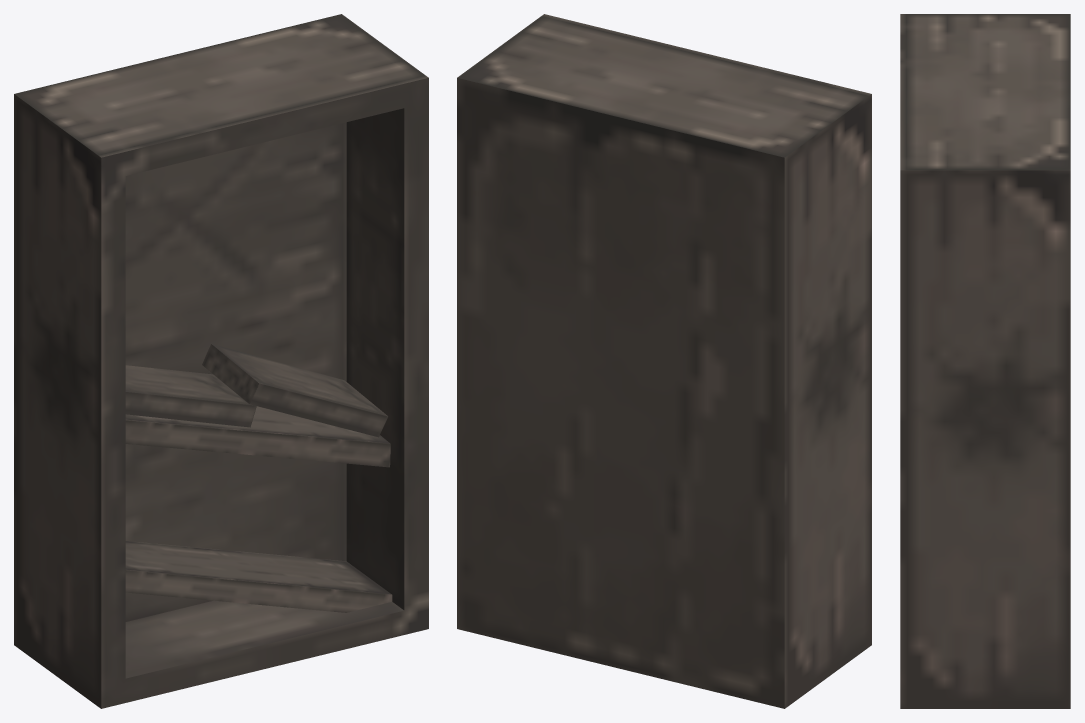
File: brokenBooKSHLF1.fbx
The picture shows the model from 3 angles, left to right: view 1: azimuth 30°, elevation 25°; view 2: azimuth 150°, elevation 25°; view 3: azimuth 270°, elevation 25°; orthographic projection. The views are drawn at different scales.
Parts seen in each view (by area): view 1: BrokenBookSHLF1; view 2: BrokenBookSHLF1; view 3: BrokenBookSHLF1.
Boxes of the visible parts, <box> form: BrokenBookSHLF1: <box>14,14,428,708</box>; BrokenBookSHLF1: <box>457,14,871,708</box>; BrokenBookSHLF1: <box>900,14,1070,708</box>.
Bounding box in the file's own units: 1101 × 1770 × 507.
